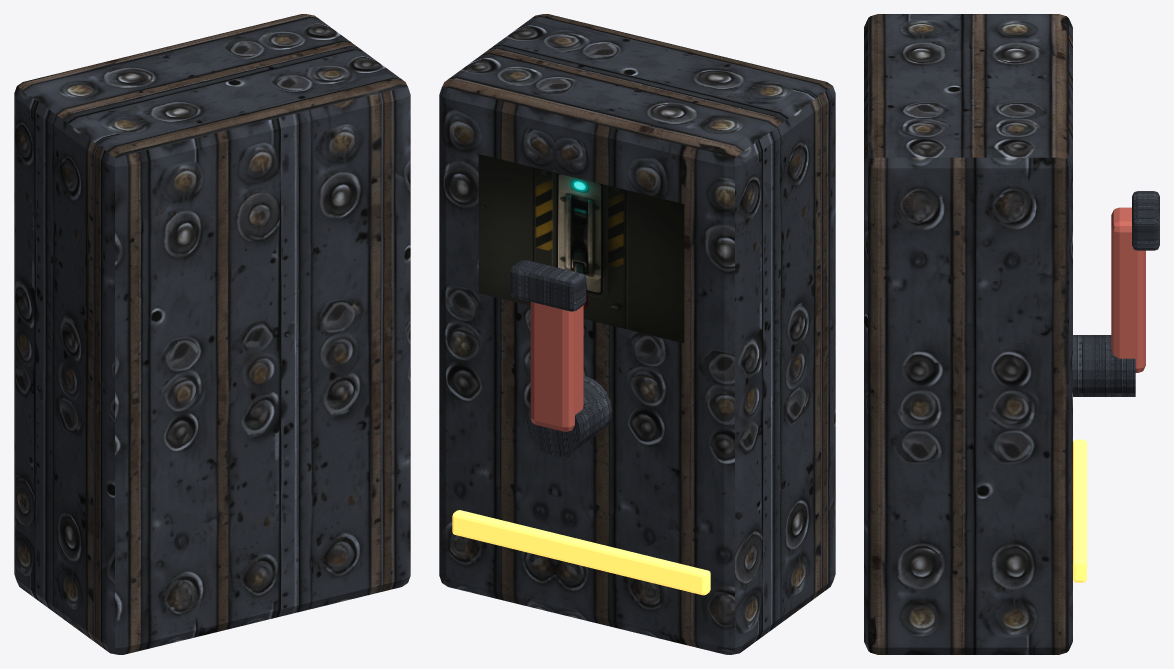
The model's file is device_breaker.glb.
3 views of the same model, side by side, from view 1: azimuth 30°, elevation 25°; view 2: azimuth 150°, elevation 25°; view 3: azimuth 270°, elevation 25° (orthographic).
Visible parts, largest first — view 1: cabinet; view 2: cabinet, display, stripe, handle, handle_grip, pivot; view 3: cabinet, handle, pivot, stripe, handle_grip.
Boxes of the visible parts, box(x1,y1,x2,y2) form: cabinet: box(14, 14, 410, 654); cabinet: box(439, 14, 835, 654); display: box(478, 154, 684, 343); stripe: box(452, 510, 710, 595); handle: box(530, 302, 583, 431); handle_grip: box(510, 260, 586, 311); pivot: box(526, 376, 612, 456); cabinet: box(864, 14, 1072, 654); handle: box(1111, 207, 1145, 372); pivot: box(1073, 335, 1135, 396); stripe: box(1073, 439, 1086, 582); handle_grip: box(1132, 191, 1159, 250).
Bounding box in the file's own units: 0.5 × 0.8 × 0.425.
5 materials, 3 textured.
